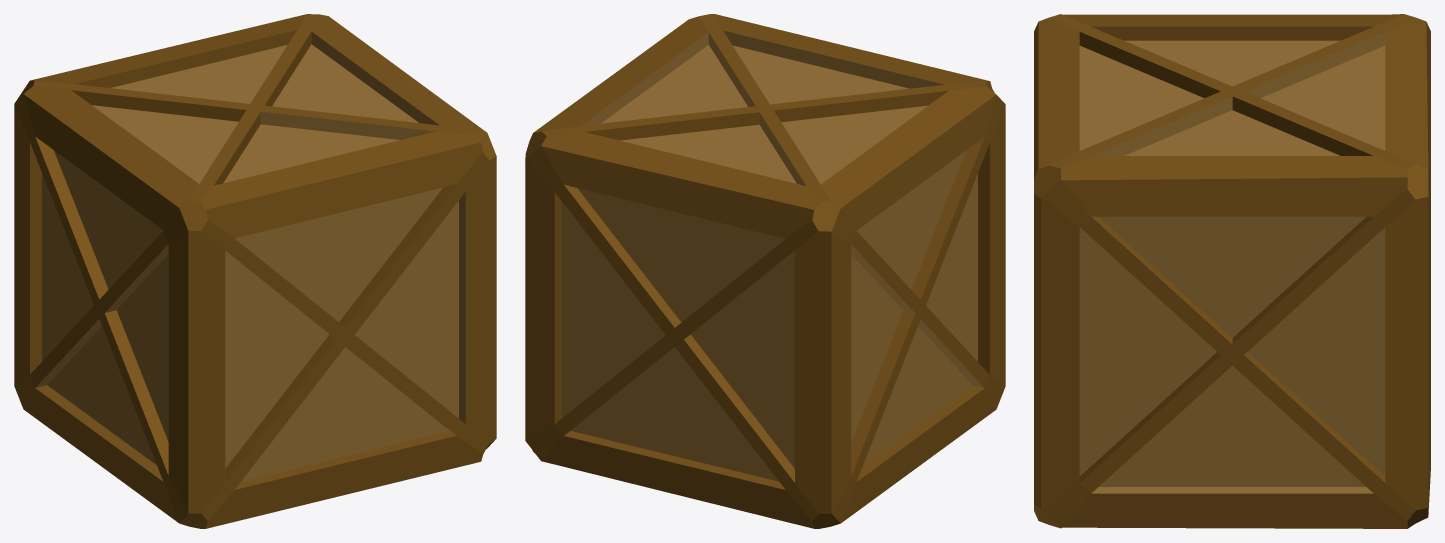
File: WoodenCrate.fbx
3 views of the same model, side by side, from view 1: azimuth 30°, elevation 25°; view 2: azimuth 150°, elevation 25°; view 3: azimuth 270°, elevation 25° (orthographic). The views are drawn at different scales.
Parts seen in each view (by area): view 1: Cube; view 2: Cube; view 3: Cube.
Part boxes in pixels (x1,y1,x2,y2): Cube: (14, 14, 496, 528); Cube: (525, 14, 1005, 528); Cube: (1034, 14, 1430, 528).
Size of the model in its own units: 108 by 108 by 108.
